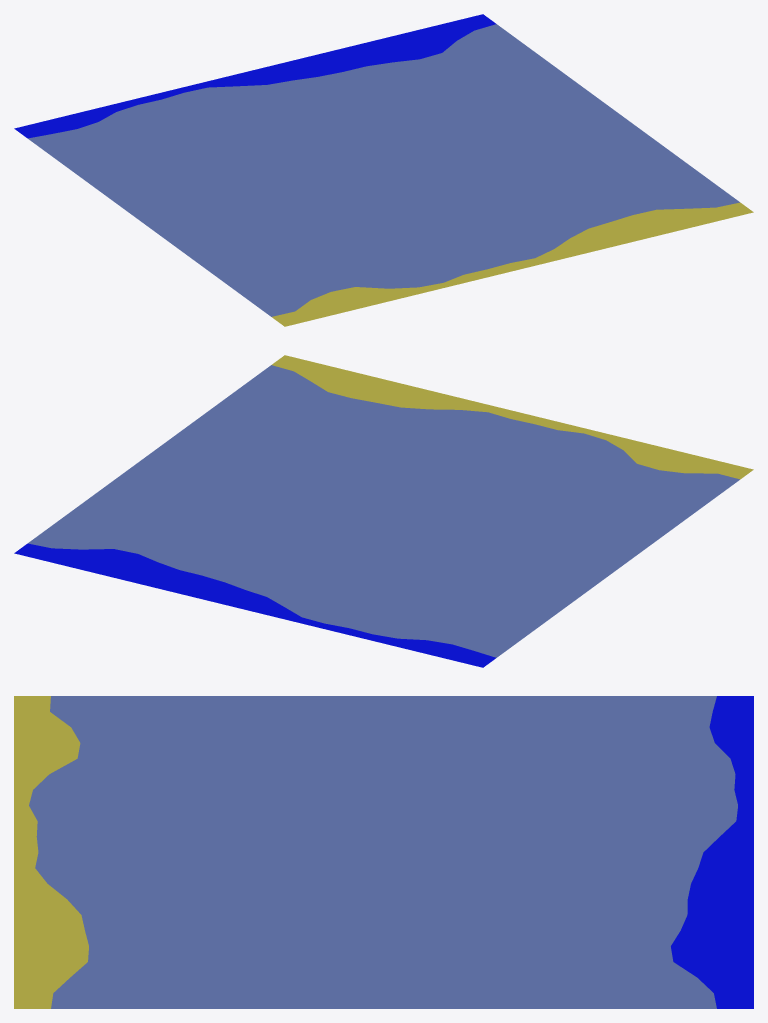
Rendered from ShoreStraight4.glb.
The picture shows the model from 3 angles, top to bottom: view 1: azimuth 30°, elevation 25°; view 2: azimuth 150°, elevation 25°; view 3: azimuth 270°, elevation 25°; orthographic projection. The views are drawn at different scales.
Visible parts, largest first — view 1: ShoreStraight4; view 2: ShoreStraight4; view 3: ShoreStraight4.
Boxes of the visible parts, x1=… form: ShoreStraight4: x1=14, y1=14, x2=753, y2=326; ShoreStraight4: x1=14, y1=355, x2=753, y2=667; ShoreStraight4: x1=14, y1=696, x2=753, y2=1008.
Bounding box in the file's own units: 1 × 0 × 1.
